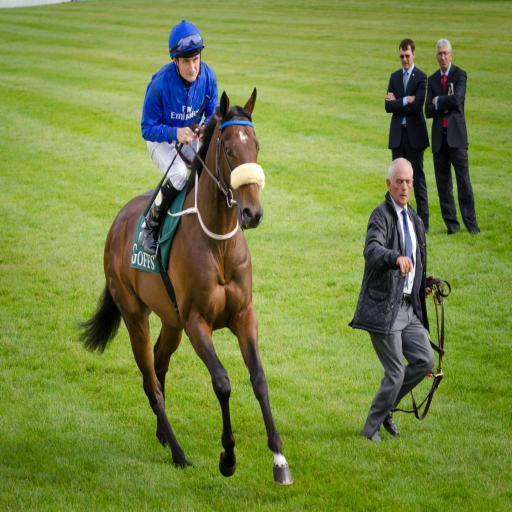horse: (74, 86, 294, 488)
